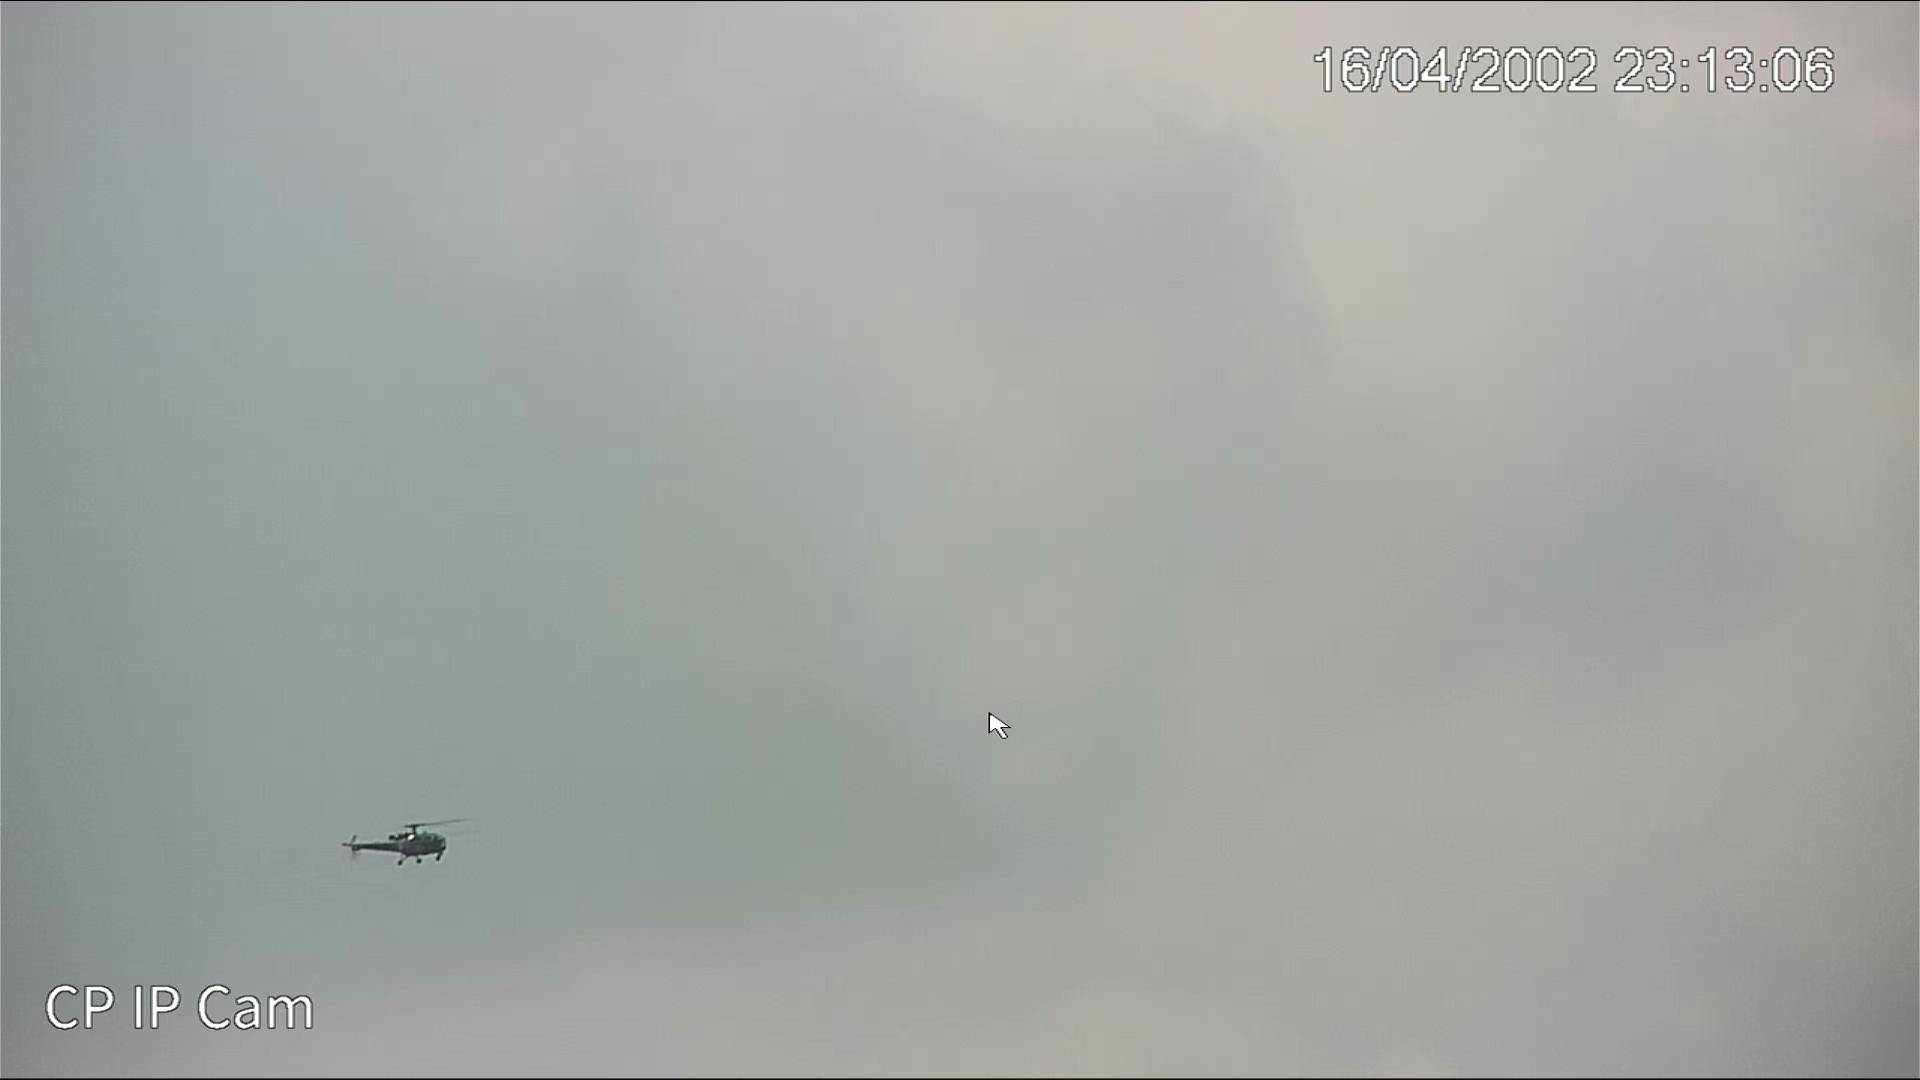SU_30: (342, 818, 455, 866)
